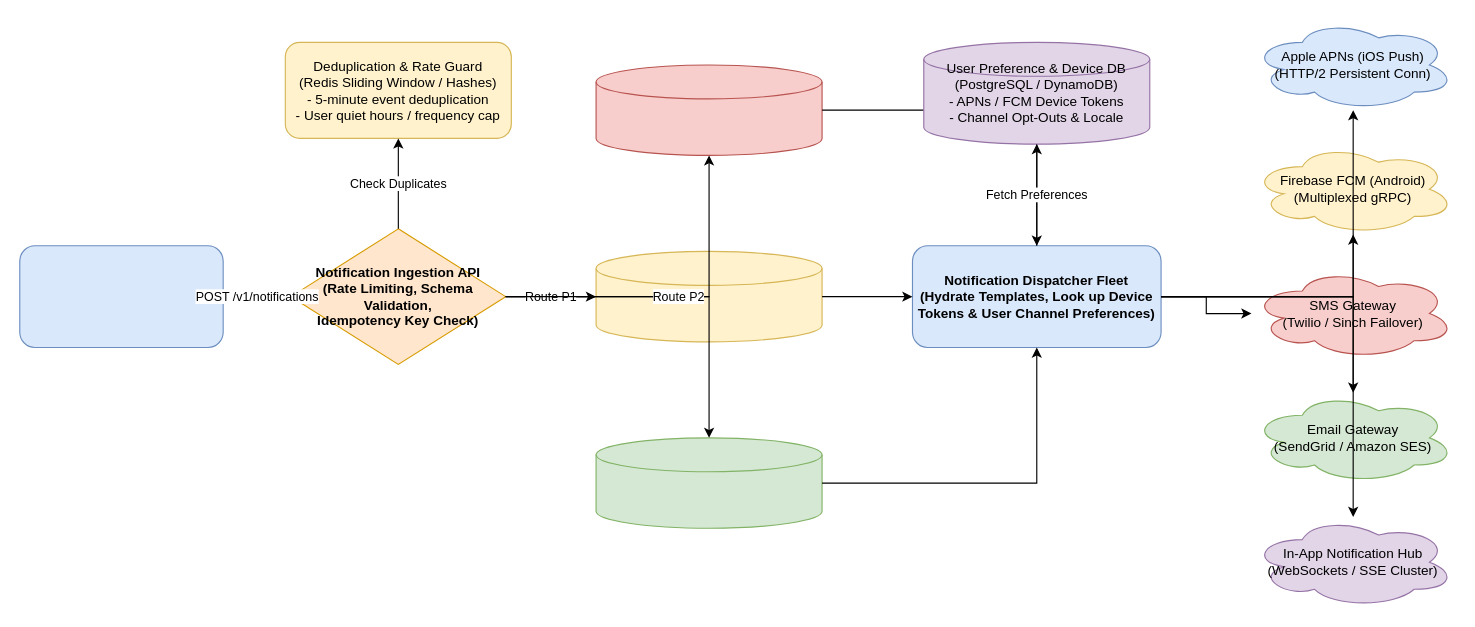
This 1475x627 diagram has some shape labels left out. Here are the shapes that lost their labels. From the top down, the box of each, then its label:
(595, 64, 822, 155): Kafka P0: Critical Queue (OTP, Security, Payment Alerts) < 1s SLA
(19, 245, 223, 347): Internal Trigger Services (Auth Svc / Payment Svc / Social Graph / Marketing)
(595, 250, 822, 342): Kafka P1: Informational (Friend Requests, Messages) < 10s SLA
(595, 437, 822, 528): Kafka P2: Marketing / Promo (Discounts, Weekly Digests) Batched Off-Peak
